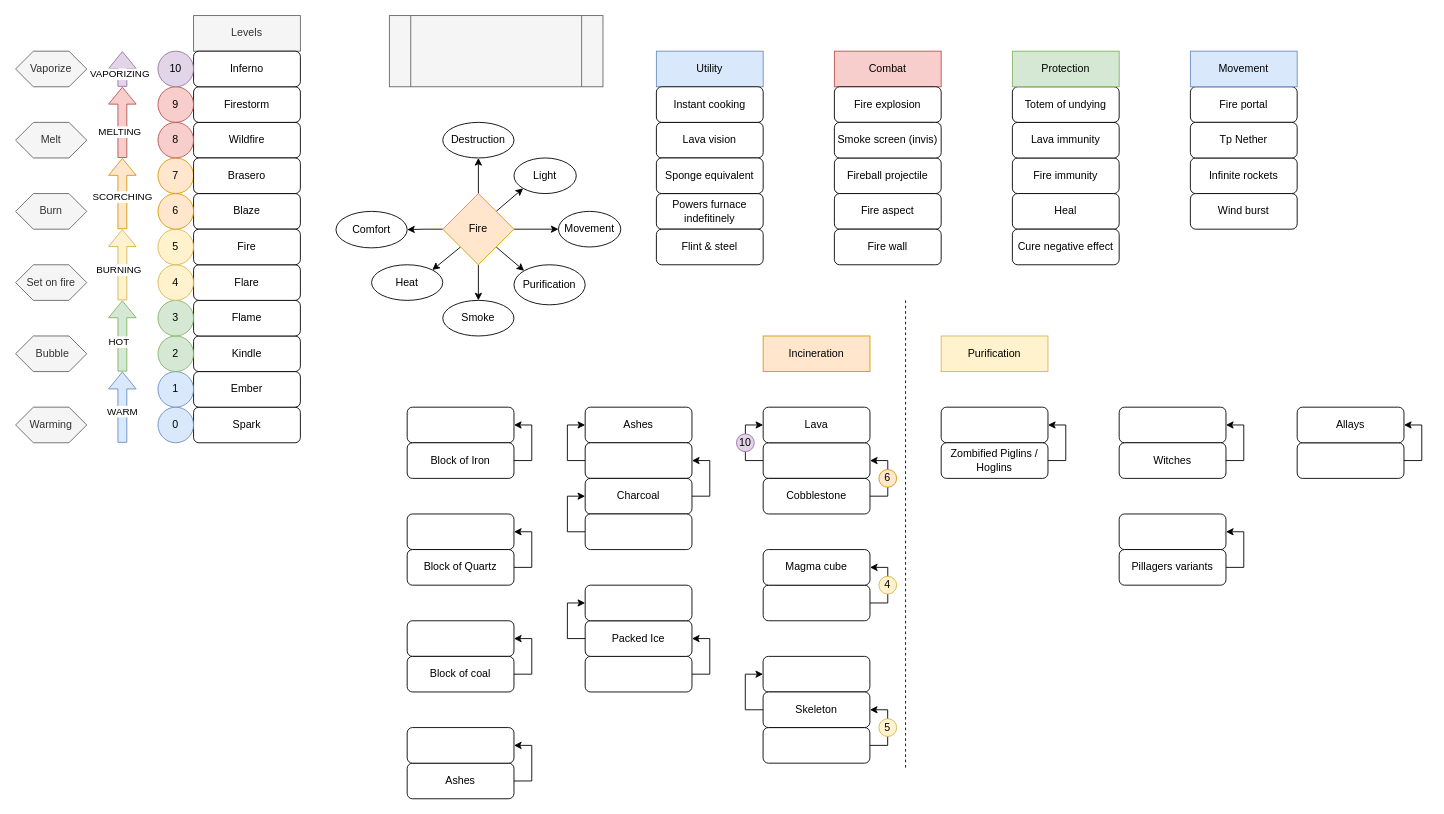
Some shapes in this 1444 by 814 pixel diagram are drawn without their labels. The centre of each missing label's shape, as x and y in pixels:
"Blue Ice" belongs at (x=638, y=673).
"Coal" belongs at (x=638, y=460).
"Diamond" belongs at (x=460, y=531).
"Fertilizer" belongs at (x=460, y=745).
"Grow a flame that will grow with several stages/levels" belongs at (x=495, y=51).
"Ice" belongs at (x=638, y=602).
"Magma block" belongs at (x=816, y=460).
"Netherite" belongs at (x=460, y=424).
"Organics" belongs at (x=638, y=531).
"Piglins / Hoglins" belongs at (x=994, y=424).
"Quartz" belongs at (x=460, y=638).
"Slime" belongs at (x=816, y=602).
"Vexes" belongs at (x=1350, y=460).
"Villager variants" belongs at (x=1172, y=531).
"Wandering trader" belongs at (x=1172, y=424).
"Wither Skeleton" belongs at (x=816, y=673).
"Zombie" belongs at (x=816, y=745).
